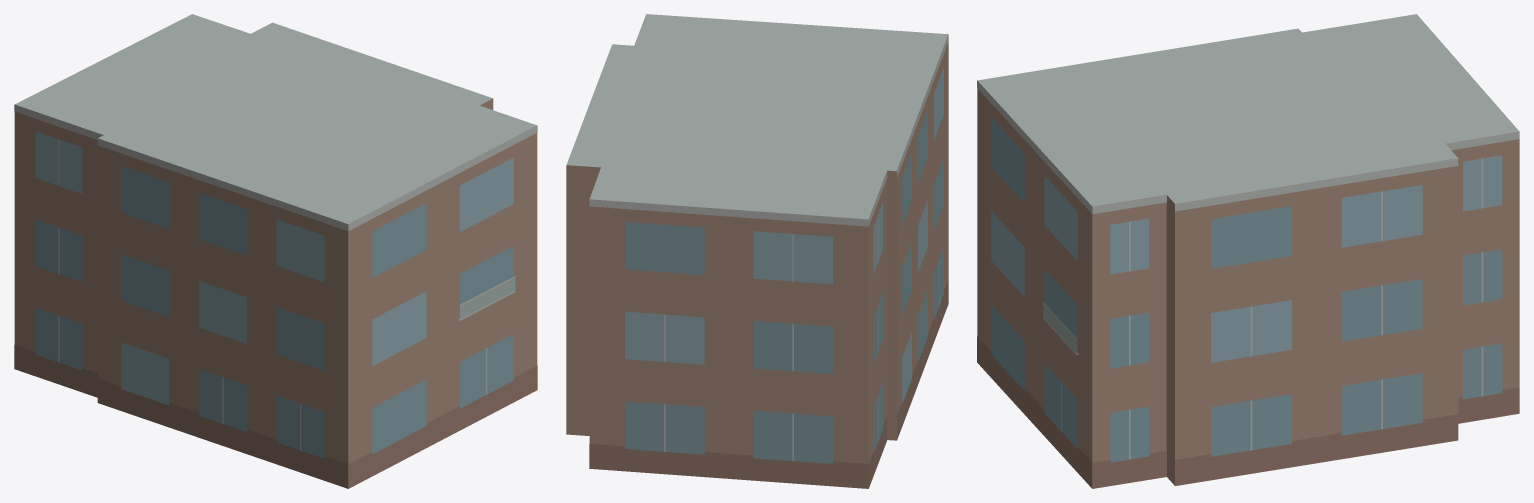
The model's file is survey-upis-33002988.glb.
3 renders of one model, left to right at view 1: azimuth 30°, elevation 25°; view 2: azimuth 150°, elevation 25°; view 3: azimuth 270°, elevation 25°, orthographic. The views are drawn at different scales.
Parts seen in each view (by area): view 1: survey-upis-33002988.tmp; view 2: survey-upis-33002988.tmp; view 3: survey-upis-33002988.tmp.
Boxes of the visible parts, x1,y1,x2,y2 form: survey-upis-33002988.tmp: (14,14,537,488); survey-upis-33002988.tmp: (566,14,948,488); survey-upis-33002988.tmp: (977,14,1519,488).
Size of the model in its own units: 13.42 by 9.15 by 15.95.
